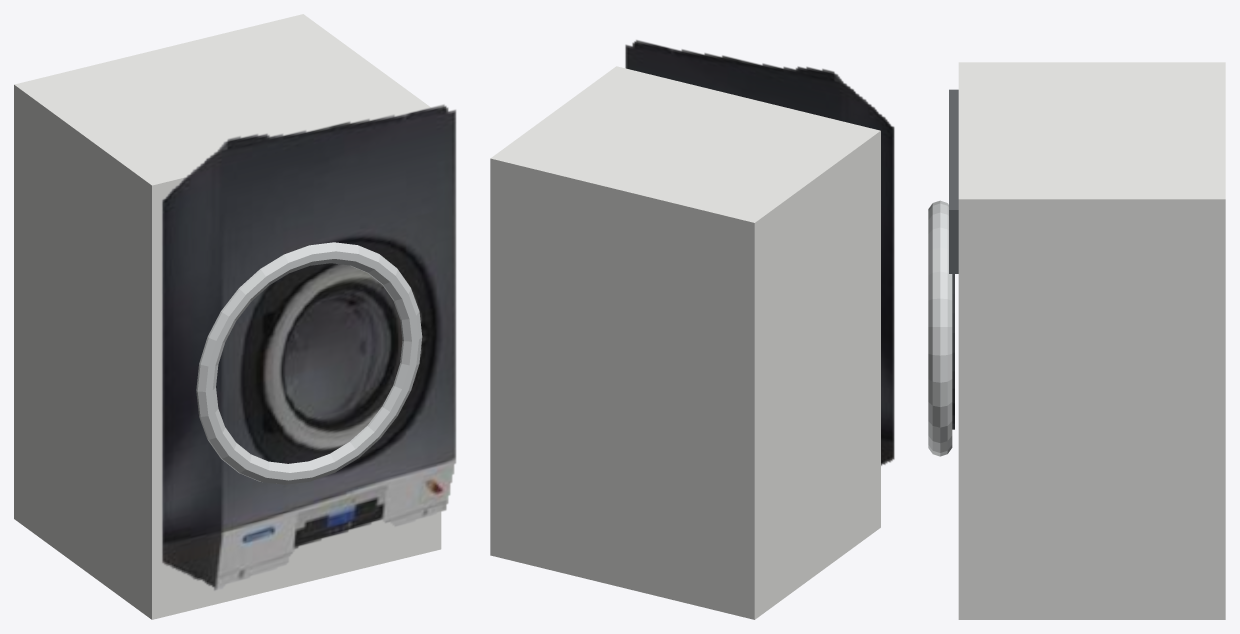
Rendered from primus-washer-extractor.glb.
3 renders of one model, left to right at view 1: azimuth 30°, elevation 25°; view 2: azimuth 150°, elevation 25°; view 3: azimuth 270°, elevation 25°, orthographic. The views are drawn at different scales.
Parts seen in each view (by area): view 1: front_decal, cabinet, door_ring; view 2: cabinet, front_decal; view 3: cabinet, door_ring, control_band, door_glass.
Boxes of the visible parts, x1,y1,x2,y2 form: front_decal: (161,104,456,591); cabinet: (14,14,441,619); door_ring: (196,242,422,484); cabinet: (490,66,880,619); front_decal: (625,39,894,465); cabinet: (958,62,1225,619); door_ring: (928,200,952,456); control_band: (949,89,958,273); door_glass: (952,274,954,429).
Bounding box in the file's own units: 1.22 × 1.83 × 1.06.
5 materials, 1 textured.
